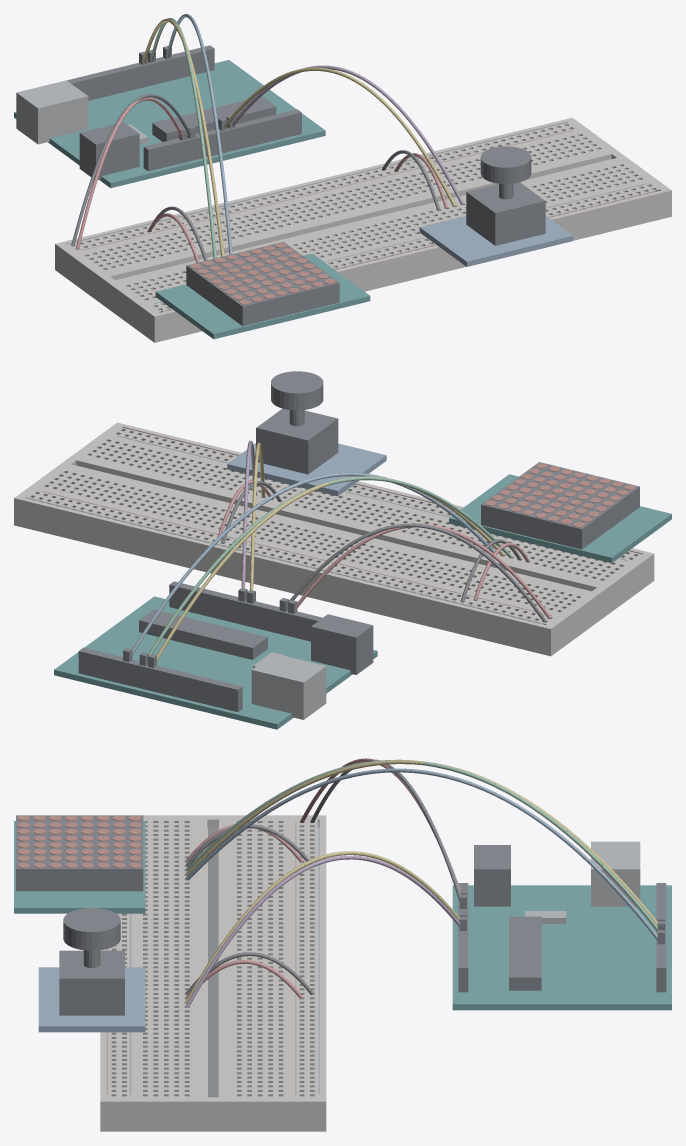
The model's file is step-14.glb.
The picture shows the model from 3 angles, top to bottom: view 1: azimuth 30°, elevation 25°; view 2: azimuth 150°, elevation 25°; view 3: azimuth 270°, elevation 25°; orthographic projection. The views are drawn at different scales.
Visible parts, largest first — view 1: breadboard__mesh, uno__mesh, matrix__mesh, joystick__mesh, joystick_x__mesh, matrix_clock__mesh, joystick_y__mesh, matrix_select__mesh, matrix_data__mesh, power_supply__mesh, ground_supply__mesh; view 2: breadboard__mesh, uno__mesh, matrix__mesh, joystick__mesh, matrix_clock__mesh, matrix_data__mesh, matrix_select__mesh, ground_supply__mesh, power_supply__mesh, joystick_x__mesh, joystick_y__mesh; view 3: breadboard__mesh, uno__mesh, matrix__mesh, joystick__mesh, matrix_clock__mesh, matrix_data__mesh, matrix_select__mesh, joystick_y__mesh, joystick_x__mesh, ground_supply__mesh, power_supply__mesh, joystick_ground__mesh (+1 smaller).
Part boxes in pixels (x1,y1,x2,y2): breadboard__mesh: [55, 117, 671, 342]; uno__mesh: [14, 45, 325, 188]; matrix__mesh: [155, 242, 370, 339]; joystick__mesh: [419, 146, 573, 266]; joystick_x__mesh: [218, 67, 455, 206]; matrix_clock__mesh: [163, 14, 232, 254]; joystick_y__mesh: [226, 65, 463, 204]; matrix_select__mesh: [139, 18, 224, 256]; matrix_data__mesh: [148, 18, 216, 258]; power_supply__mesh: [76, 97, 187, 248]; ground_supply__mesh: [71, 94, 195, 245]; breadboard__mesh: [14, 422, 654, 656]; uno__mesh: [54, 581, 377, 729]; matrix__mesh: [449, 462, 671, 563]; joystick__mesh: [227, 371, 386, 496]; matrix_clock__mesh: [123, 472, 494, 661]; matrix_data__mesh: [139, 476, 512, 665]; matrix_select__mesh: [148, 476, 504, 667]; ground_supply__mesh: [279, 523, 546, 622]; power_supply__mesh: [288, 523, 551, 618]; joystick_x__mesh: [246, 442, 265, 603]; joystick_y__mesh: [238, 440, 256, 601]; breadboard__mesh: [100, 815, 326, 1131]; uno__mesh: [452, 841, 671, 1010]; matrix__mesh: [14, 815, 145, 913]; joystick__mesh: [38, 908, 145, 1032]; matrix_clock__mesh: [185, 768, 664, 944]; matrix_data__mesh: [185, 759, 664, 931]; matrix_select__mesh: [185, 760, 664, 925]; joystick_y__mesh: [185, 855, 466, 1007]; joystick_x__mesh: [185, 851, 466, 1002]; ground_supply__mesh: [310, 759, 466, 908]; power_supply__mesh: [300, 758, 466, 894]; joystick_ground__mesh: [185, 952, 313, 994].
Size of the model in its own units: 0.165 by 0.048 by 0.1602.
